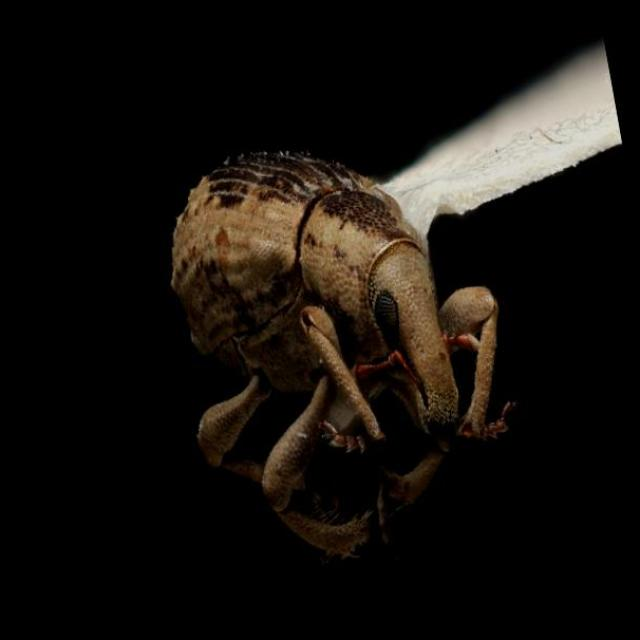ricebug: (172, 154, 510, 558)
